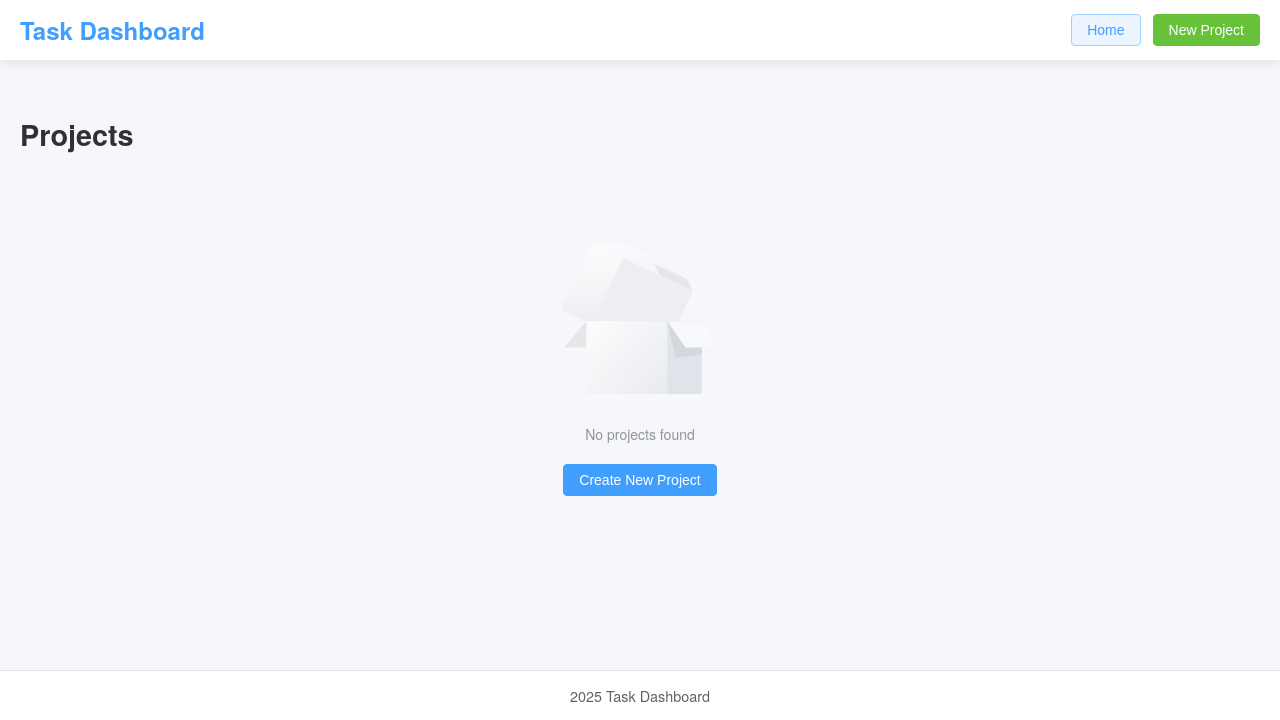
Test: Task Dashboard › should navigate to new project page
# Find the New Project button by text content
Click the button "New Project": (1207, 30) [1153,14,1261,46]
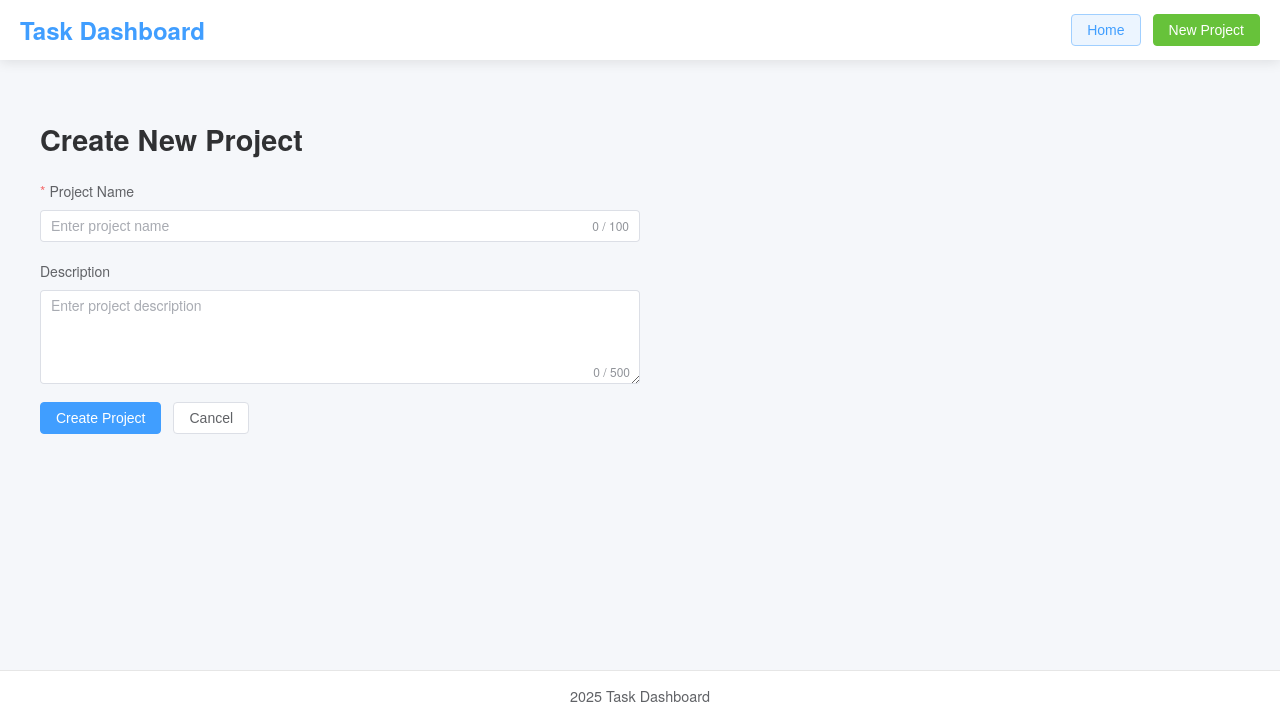
Check: the form is shown, box [40,180,640,434]
Check: the button "Create Project" is shown, box [40,402,162,434]
